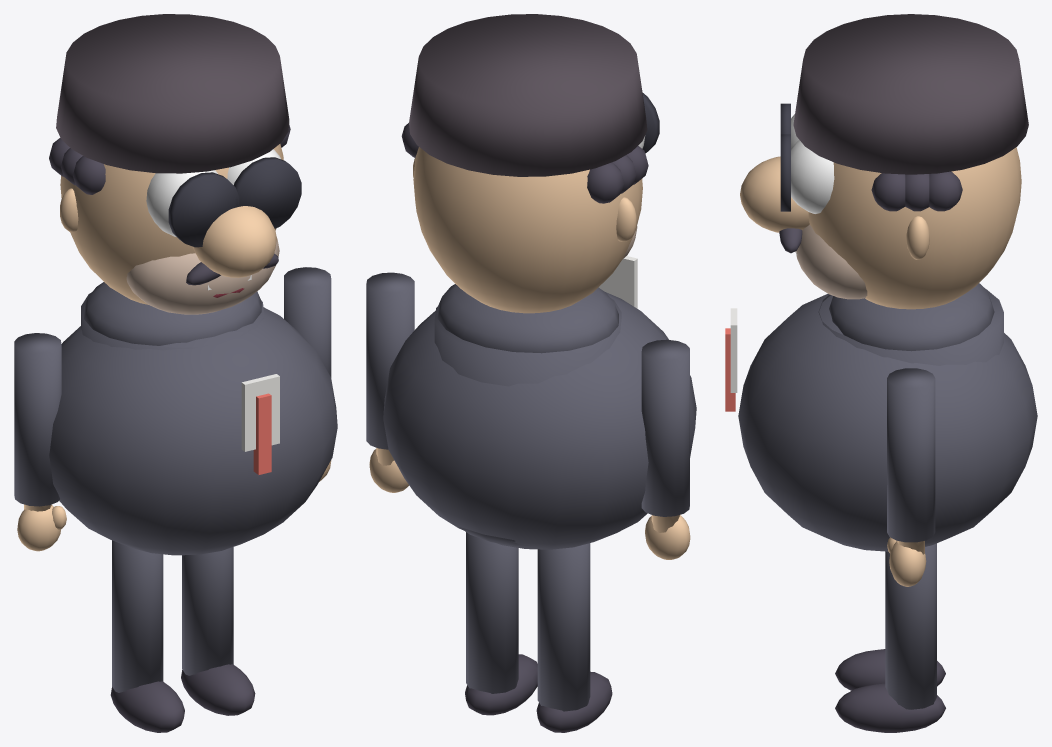
File: Char_DatukMega.fbx
3 views of the same model, side by side, from view 1: azimuth 30°, elevation 25°; view 2: azimuth 150°, elevation 25°; view 3: azimuth 270°, elevation 25° (orthographic). The views are drawn at different scales.
Parts seen in each view (by area): view 1: Head, Torso, LegR, ArmR, LegL, ArmL; view 2: Head, Torso, LegR, LegL, ArmR, ArmL; view 3: Head, Torso, LegL, ArmL, LegR.
Boxes of the visible parts, left/top/right/bottom form: Head: left=49, top=14, right=301, bottom=314; Torso: left=49, top=282, right=337, bottom=555; LegR: left=110, top=540, right=184, bottom=732; ArmR: left=14, top=333, right=66, bottom=551; LegL: left=181, top=547, right=255, bottom=715; ArmL: left=284, top=267, right=331, bottom=481; Head: left=401, top=14, right=659, bottom=313; Torso: left=383, top=256, right=696, bottom=549; LegR: left=536, top=543, right=612, bottom=732; LegL: left=465, top=532, right=537, bottom=715; ArmR: left=641, top=339, right=690, bottom=559; ArmL: left=366, top=272, right=414, bottom=492; Head: left=740, top=14, right=1028, bottom=309; Torso: left=725, top=283, right=1037, bottom=551; LegL: left=835, top=543, right=945, bottom=732; ArmL: left=887, top=368, right=935, bottom=586; LegR: left=835, top=649, right=945, bottom=690.
Bounding box in the file's own units: 1.05 × 2.1 × 0.91.
